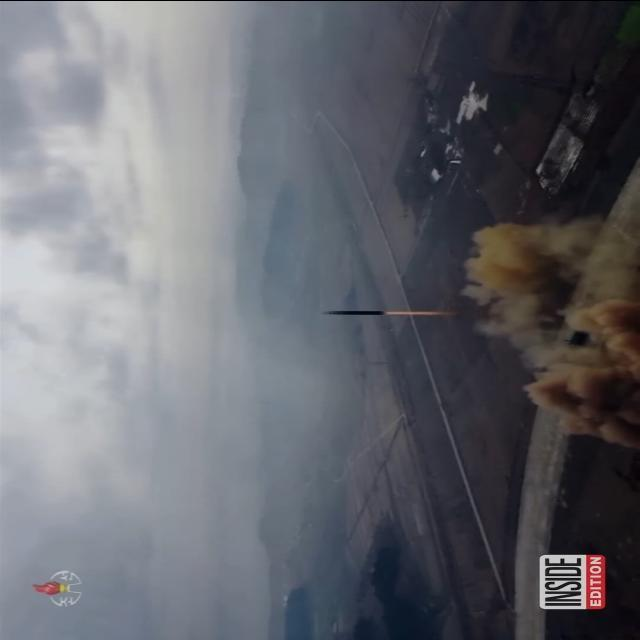Missile: (318, 309, 391, 315)
